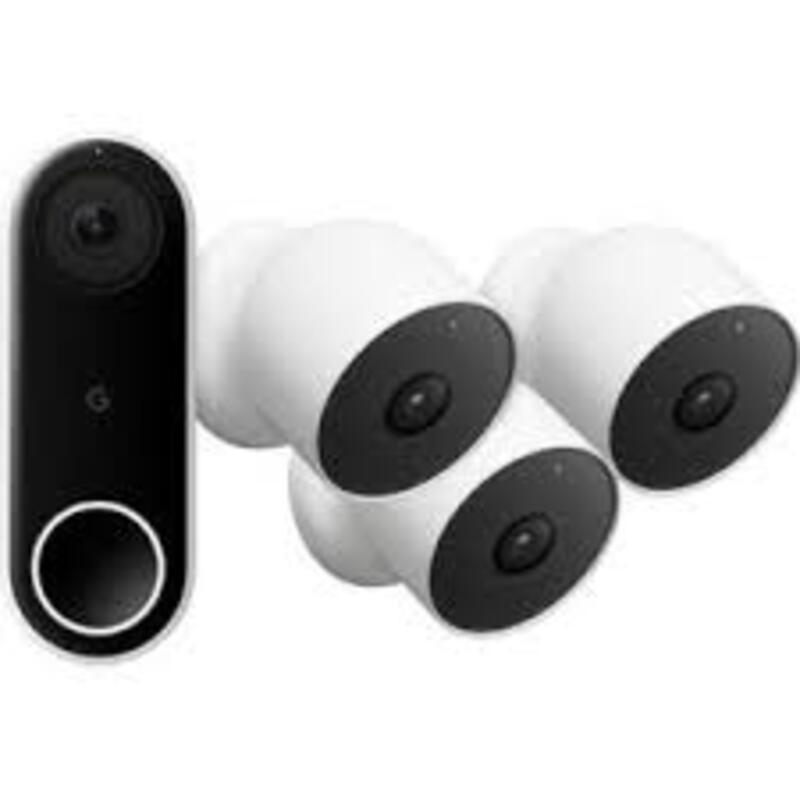nest: (232, 228, 513, 499), (541, 236, 796, 493), (394, 403, 626, 635)
